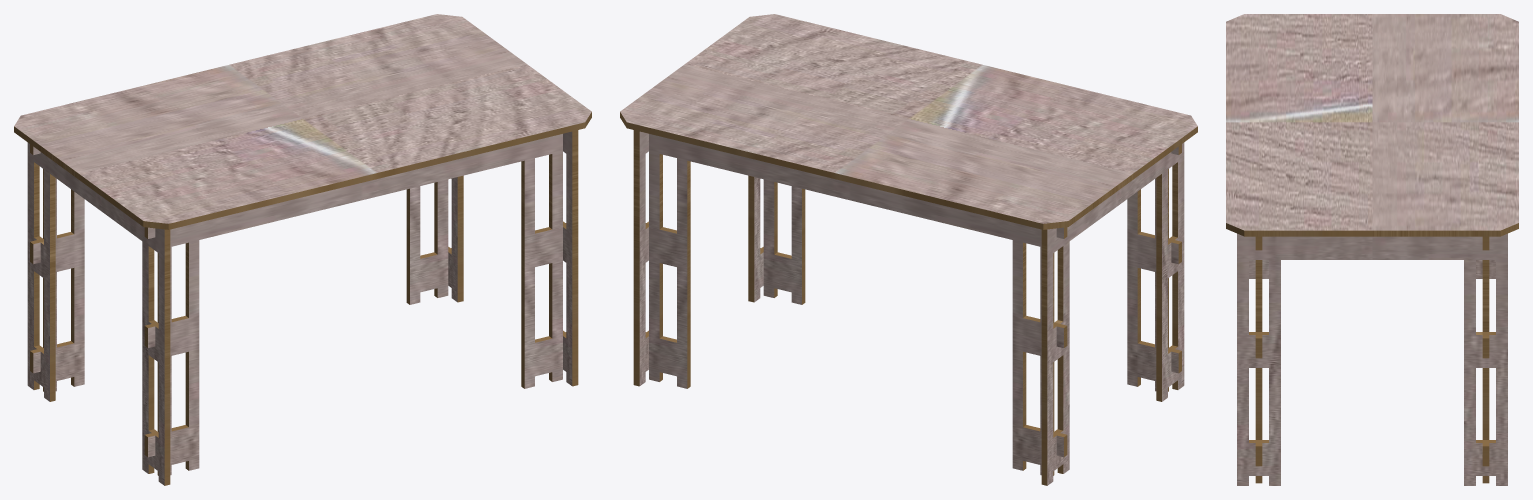
File: NODO_MESA_COMEDOR_PORTICO_PARAISO_FAPLAC_REAL.glb
The picture shows the model from 3 angles, left to right: view 1: azimuth 30°, elevation 25°; view 2: azimuth 150°, elevation 25°; view 3: azimuth 270°, elevation 25°; orthographic projection.
Visible parts, largest first — view 1: top_faces_8, long_faces_4, short_faces_2, long_faces_6, short_edge_3, top_edge_9, long_edge_5, short_faces_0, short_edge_1, long_edge_7; view 2: top_faces_8, long_faces_6, short_faces_2, long_faces_4, short_edge_3, top_edge_9, long_edge_7, short_faces_0, short_edge_1, long_edge_5; view 3: top_faces_8, short_faces_0, top_edge_9, long_edge_5, long_edge_7, short_faces_2.
Part boxes in pixels (x1,y1,x2,y2): top_faces_8: (14, 14, 591, 223); long_faces_4: (148, 134, 562, 475); short_faces_2: (27, 142, 164, 485); long_faces_6: (33, 146, 448, 391); short_edge_3: (34, 162, 170, 485); top_edge_9: (14, 112, 591, 229); long_edge_5: (144, 154, 566, 475); short_faces_0: (448, 131, 572, 385); short_edge_1: (448, 130, 578, 386); long_edge_7: (30, 144, 451, 391); top_faces_8: (620, 14, 1197, 223); long_faces_6: (649, 134, 1063, 475); short_faces_2: (1047, 142, 1184, 485); long_faces_4: (763, 146, 1178, 391); short_edge_3: (1041, 162, 1177, 485); top_edge_9: (620, 112, 1197, 229); long_edge_7: (645, 154, 1067, 475); short_faces_0: (639, 131, 763, 385); short_edge_1: (633, 130, 763, 386); long_edge_5: (760, 144, 1181, 391); top_faces_8: (1226, 14, 1518, 230); short_faces_0: (1237, 233, 1507, 485); top_edge_9: (1226, 223, 1518, 236); long_edge_5: (1255, 236, 1262, 483); long_edge_7: (1482, 236, 1489, 483); short_faces_2: (1249, 260, 1495, 278).
Bounding box in the file's own units: 1.4 × 0.795 × 0.8.
2 materials, 2 textured.
